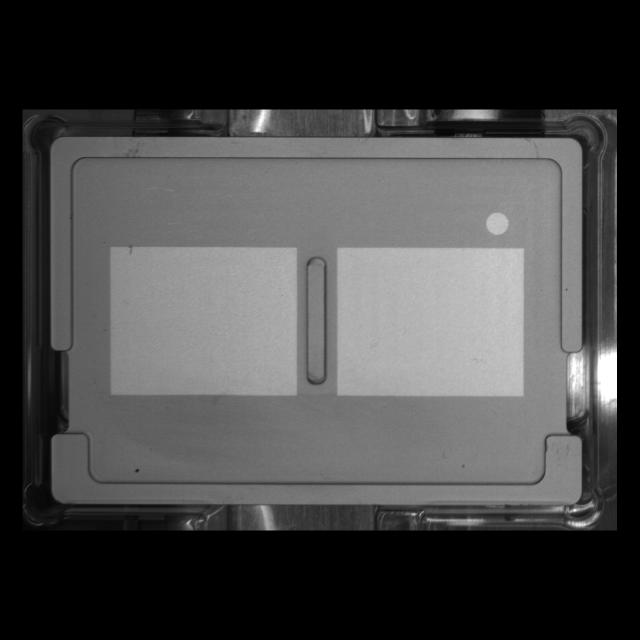door: (40, 421, 598, 517)
point: (477, 204, 518, 243)
